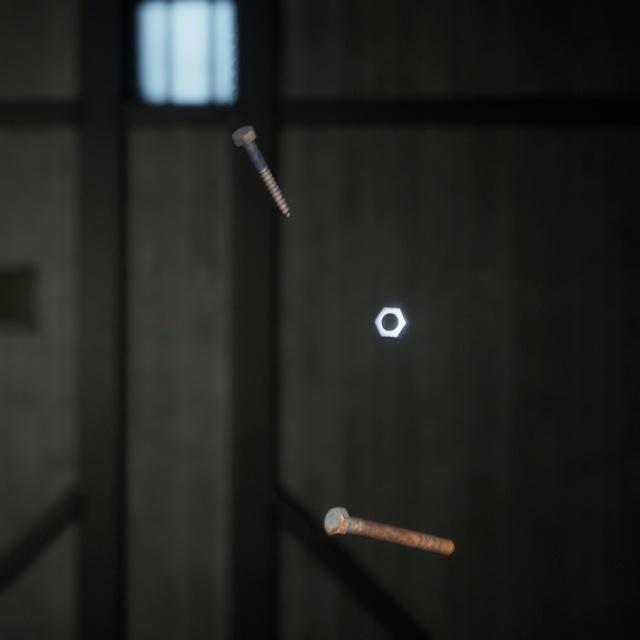bolt: (319, 480, 459, 539), (228, 106, 294, 207)
nut: (369, 285, 414, 326)
